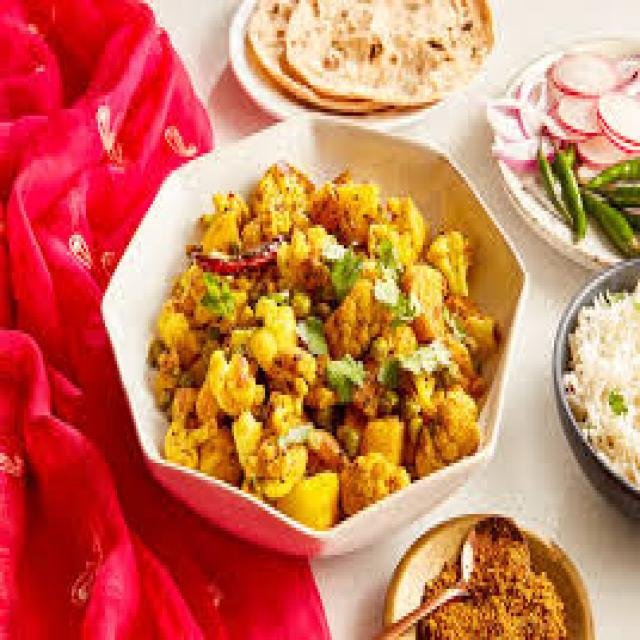Aloo Gobi: (185, 164, 465, 478)
